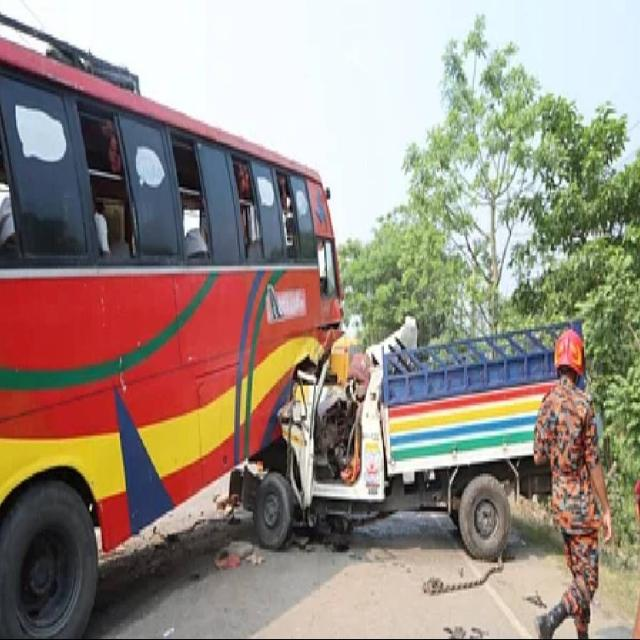Accident: (225, 313, 581, 561)
